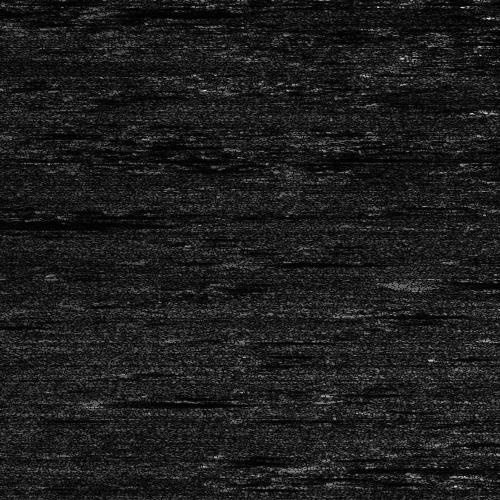rock: (236, 461, 381, 474), (457, 466, 500, 483), (60, 8, 113, 19), (385, 278, 448, 287), (76, 397, 129, 406), (233, 256, 286, 265), (315, 311, 388, 316), (451, 106, 500, 113)
shadow: (309, 461, 500, 474), (0, 214, 138, 227), (87, 8, 213, 19), (103, 397, 237, 406), (260, 256, 388, 265), (417, 278, 500, 287), (352, 311, 456, 316)
